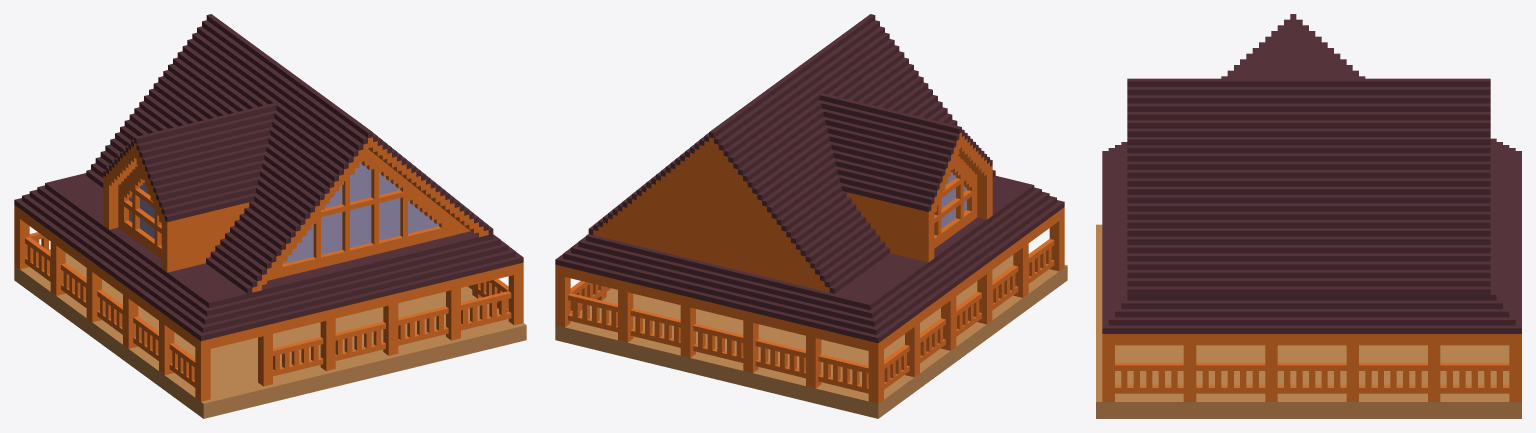
The model's file is cottage.obj.
The picture shows the model from 3 angles, left to right: view 1: azimuth 30°, elevation 25°; view 2: azimuth 150°, elevation 25°; view 3: azimuth 270°, elevation 25°; orthographic projection. The views are drawn at different scales.
Parts seen in each view (by area): view 1: cottage; view 2: cottage; view 3: cottage.
Part boxes in pixels (x1=…): cottage: x1=14, y1=14, x2=526, y2=418; cottage: x1=555, y1=14, x2=1067, y2=418; cottage: x1=1096, y1=14, x2=1521, y2=418.
Bounding box in the file's own units: 67 × 46 × 68.
Materials: 1 (1 with a texture image).
